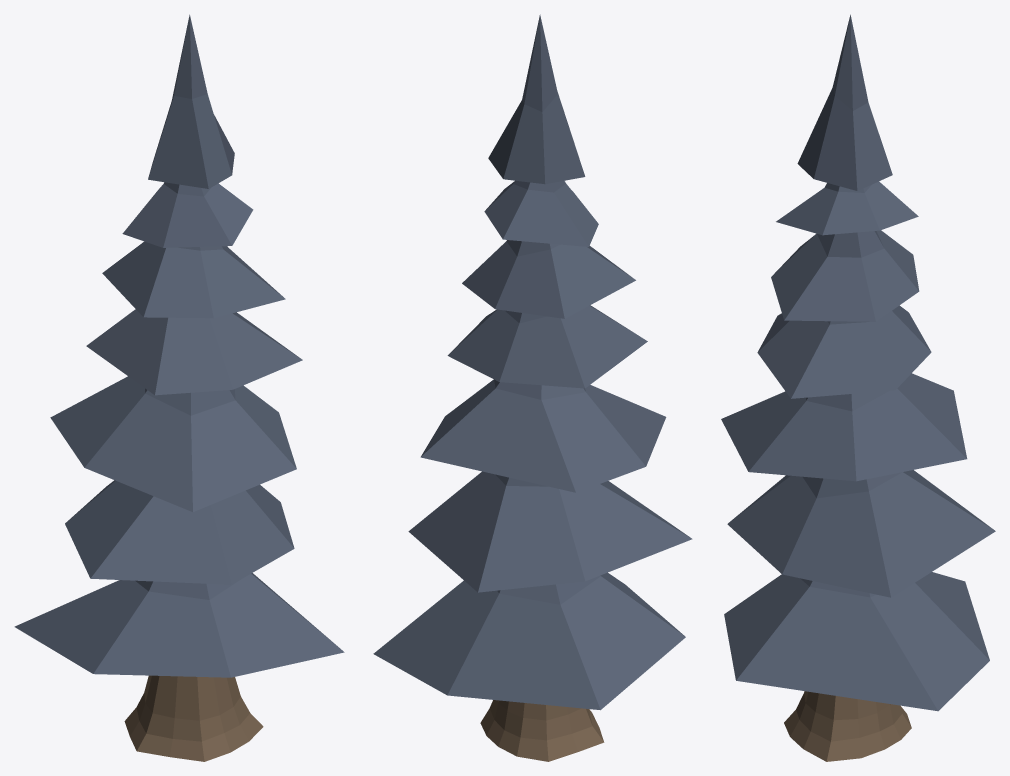
Rendered from P_fir_08.fbx.
The picture shows the model from 3 angles, left to right: view 1: azimuth 30°, elevation 25°; view 2: azimuth 150°, elevation 25°; view 3: azimuth 270°, elevation 25°; orthographic projection.
Parts seen in each view (by area): view 1: lod1; view 2: lod1; view 3: lod1.
Part boxes in pixels (x1,y1,x2,y2): lod1: [14, 14, 344, 761]; lod1: [373, 14, 692, 761]; lod1: [721, 14, 995, 761].
Size of what is drawn, in the model's own units: 2.02 by 5.57 by 1.93.
1 material, 1 textured.
